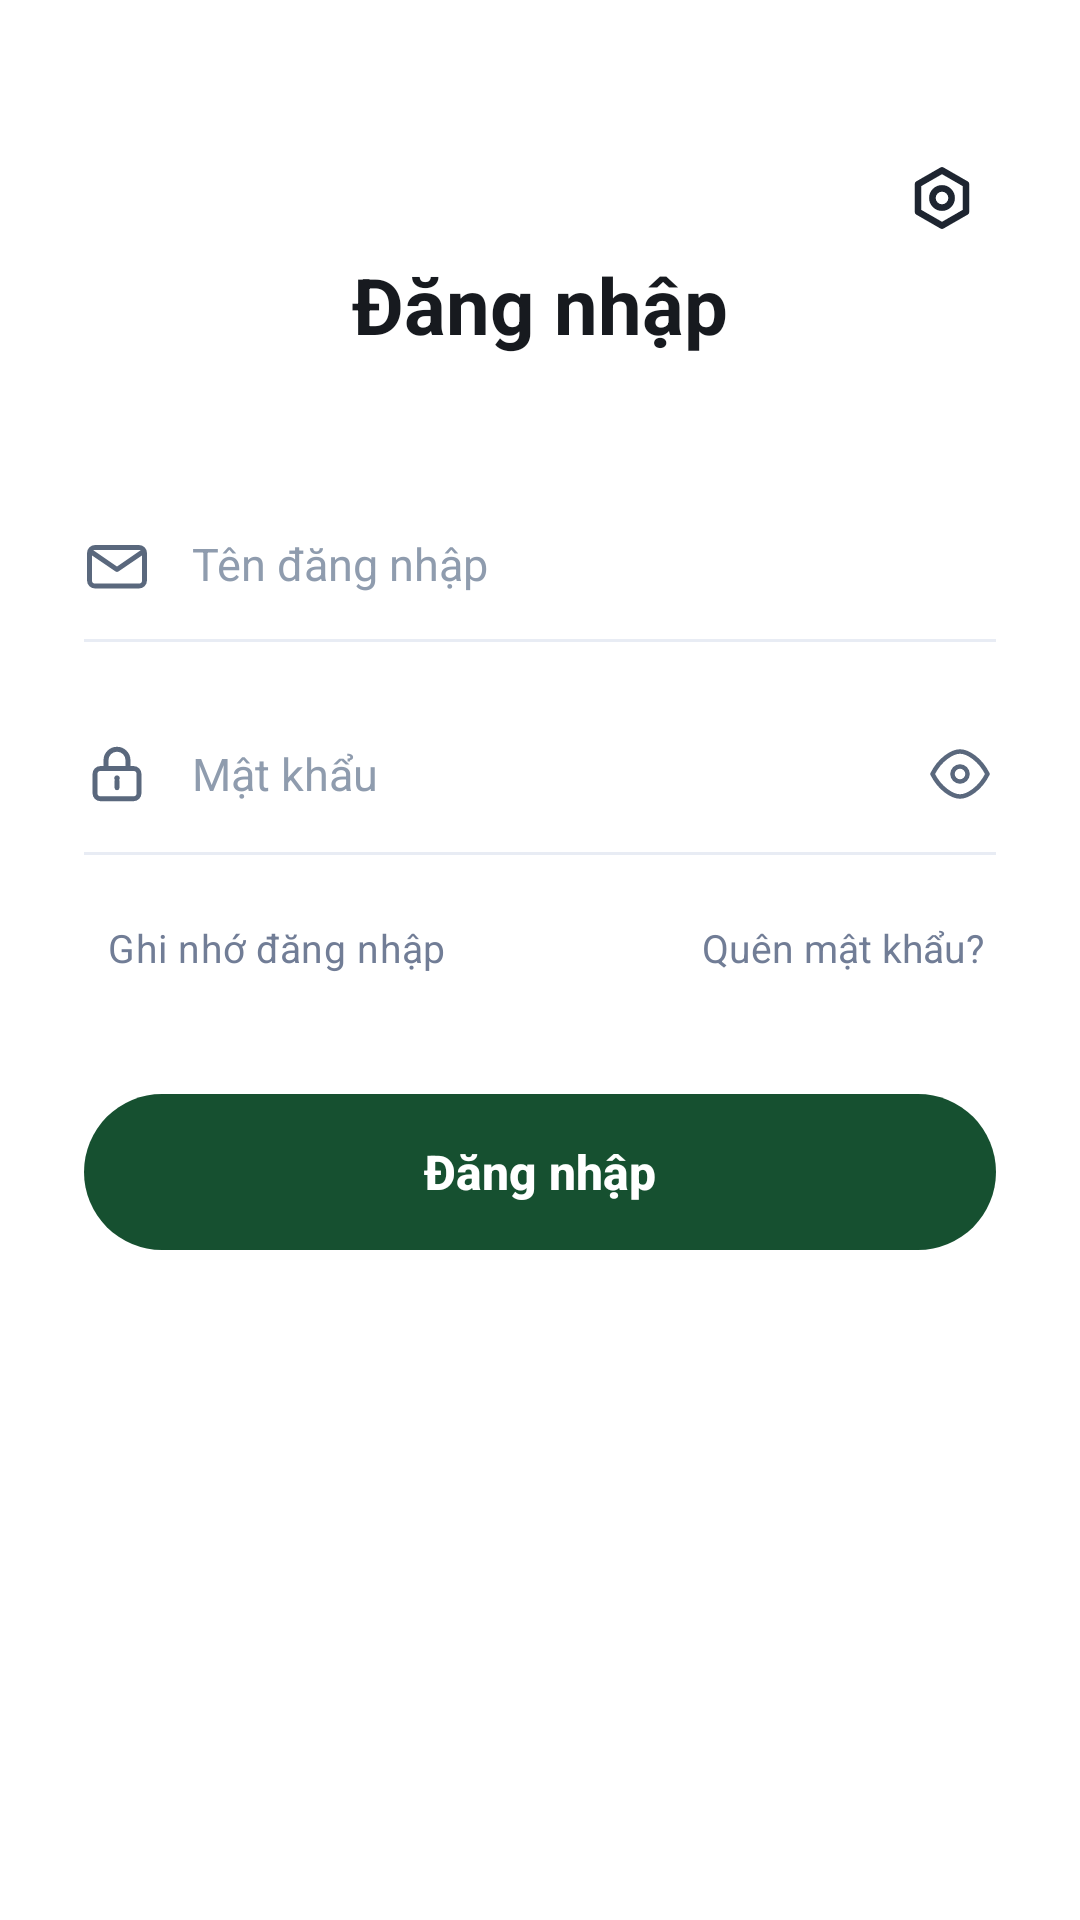

Icon click points for this 1080px×1920px phone screenshot, format point (x, y):
Cài đặt IP máy chủ: point (942, 198)
eye: point (960, 774)
lock: point (117, 774)
mail: point (117, 567)
